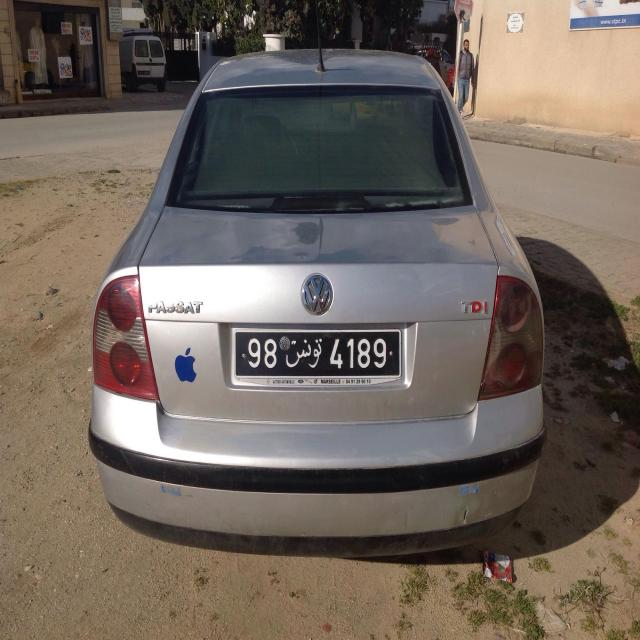LP: (232, 327, 405, 380)
